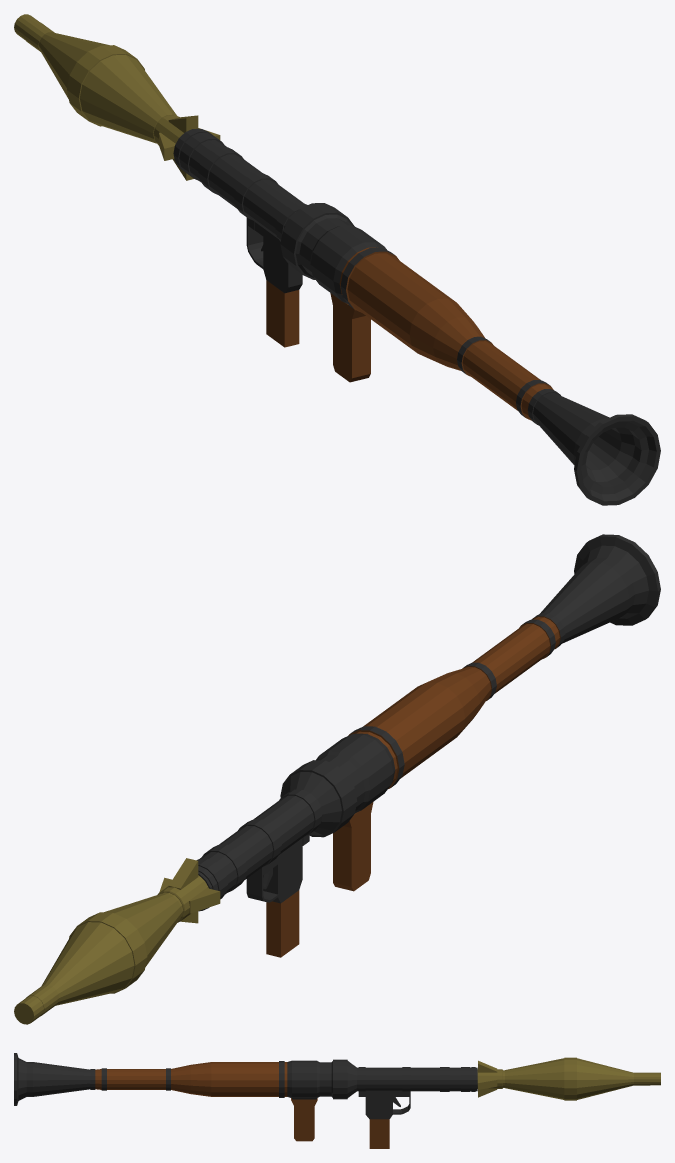
Rendered from rpg7.fbx.
3 views of the same model, one above another, from view 1: azimuth 30°, elevation 25°; view 2: azimuth 150°, elevation 25°; view 3: azimuth 270°, elevation 25° (orthographic). The views are drawn at different scales.
Parts seen in each view (by area): view 1: MainBarrel, Rocket; view 2: MainBarrel, Rocket; view 3: MainBarrel, Rocket.
Part boxes in pixels (x1,y1,x2,y2): MainBarrel: (173, 128, 660, 505); Rocket: (14, 14, 220, 180); MainBarrel: (196, 534, 660, 957); Rocket: (14, 858, 220, 1024); MainBarrel: (14, 1053, 477, 1148); Rocket: (477, 1057, 660, 1100).
Bounding box in the file's own units: 40.8 × 77.86 × 499.
